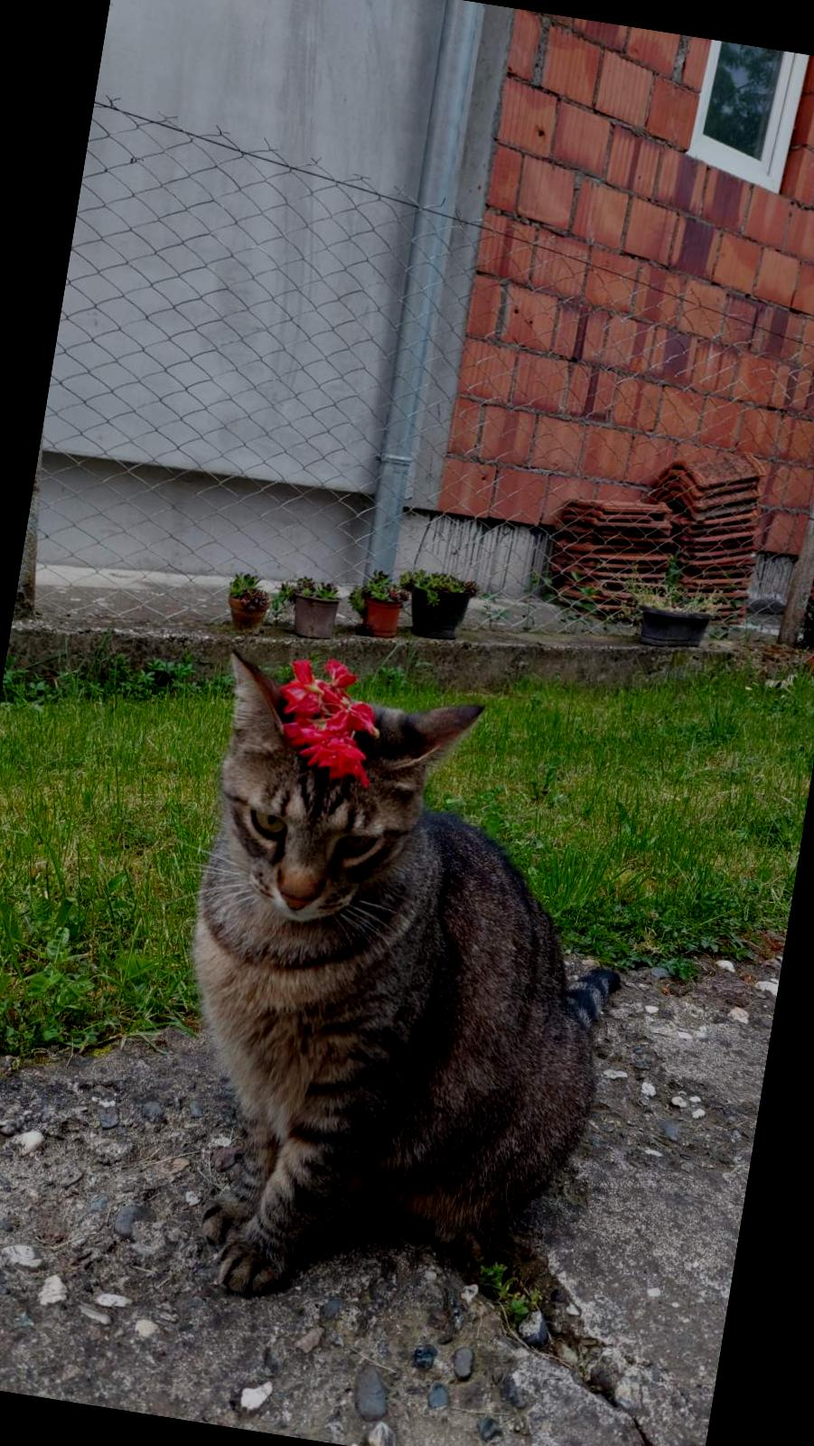macka: (127, 647, 662, 1347)
